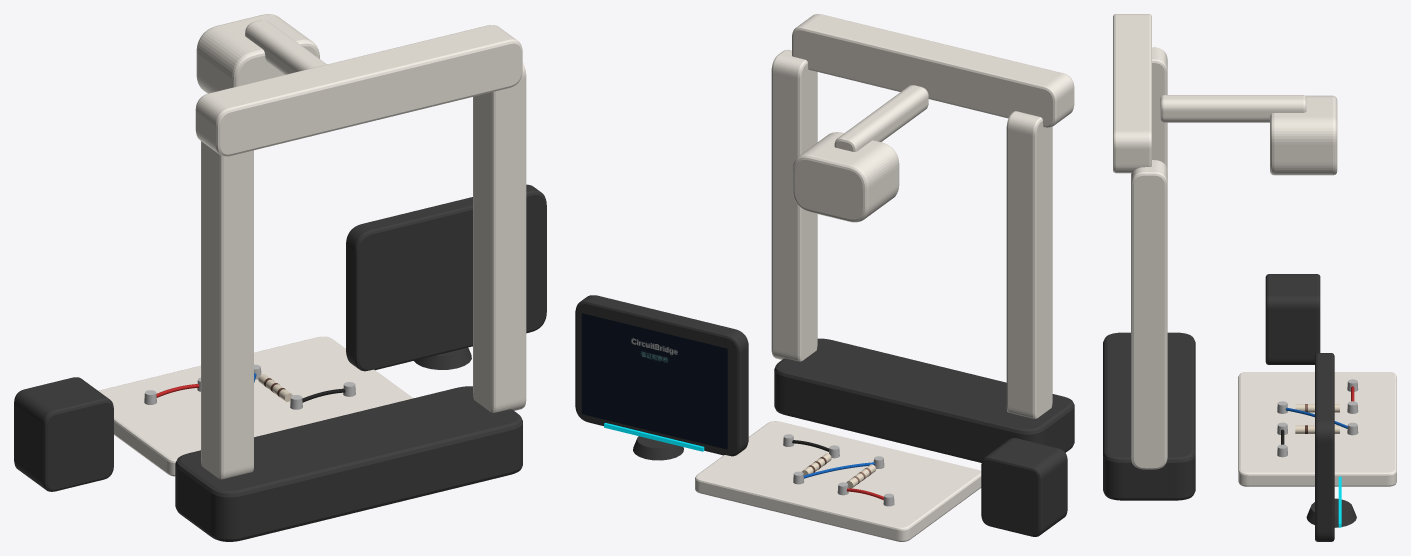
Rendered from bridge_whole.glb.
3 views of the same model, side by side, from view 1: azimuth 30°, elevation 25°; view 2: azimuth 150°, elevation 25°; view 3: azimuth 270°, elevation 25° (orthographic). The views are drawn at different scales.
Parts seen in each view (by area): view 1: CircuitBridge; view 2: CircuitBridge; view 3: CircuitBridge.
Part boxes in pixels (bbox=[...]): CircuitBridge: bbox=[14, 14, 546, 541]; CircuitBridge: bbox=[575, 14, 1074, 541]; CircuitBridge: bbox=[1103, 14, 1396, 541].
Size of the model in its own units: 0.3715 by 0.287 by 0.2095.
Materials: 19 (1 with a texture image).
